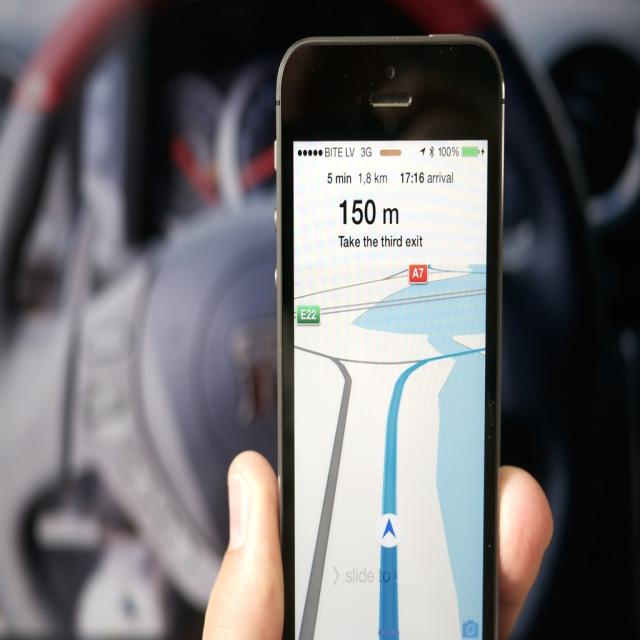Mobile phone: (278, 20, 518, 633)
